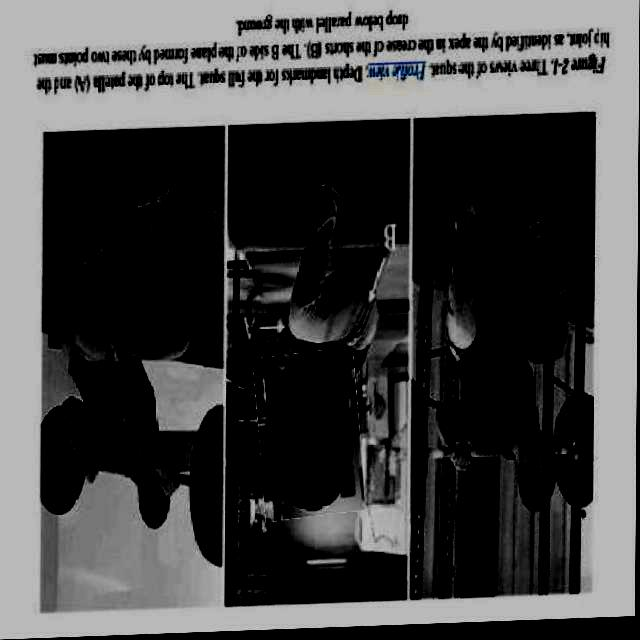barbell: (257, 352, 365, 522)
